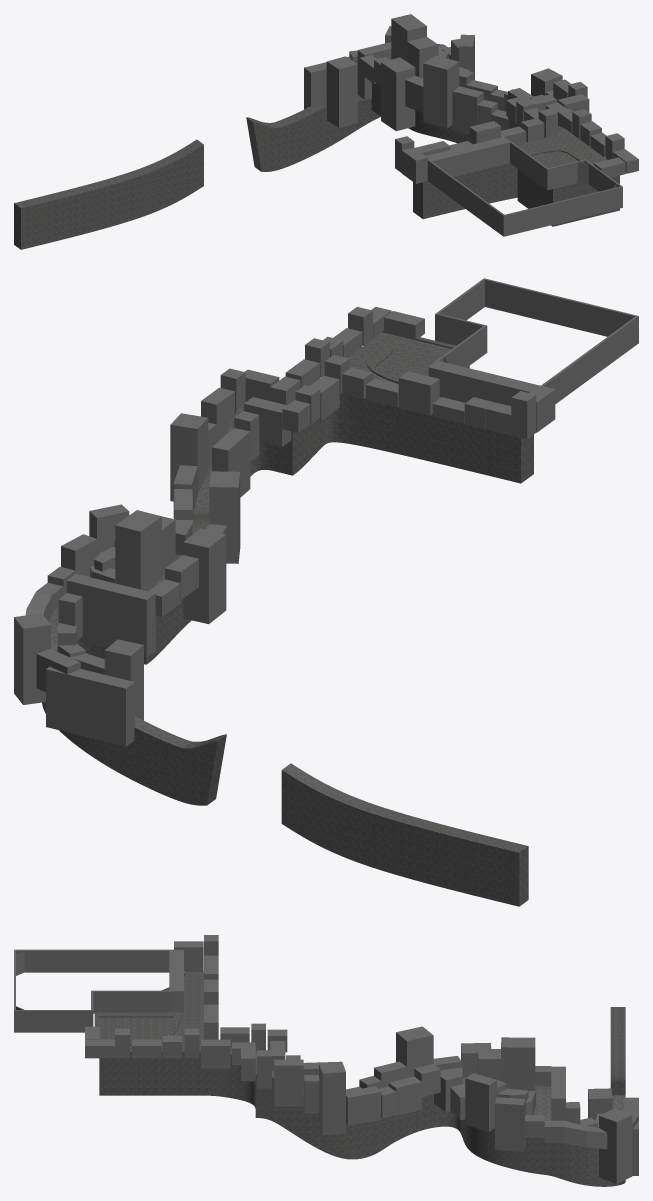
Rendered from street.gltf.
3 views of the same model, one above another, from view 1: azimuth 30°, elevation 25°; view 2: azimuth 150°, elevation 25°; view 3: azimuth 270°, elevation 25° (orthographic). The views are drawn at different scales.
Parts seen in each view (by area): view 1: Plane, Cube, Cube.028, Cube.052, Cube.032, Cube.027, Cube.038, Cube.053, Cube.033, Cube.061, Cube.044, Cube.031 (+15 smaller); view 2: Plane, Cube, Cube.053, Cube.044, Cube.038, Cube.032, Cube.051, Cube.021, Cube.028, Cube.052, Cube.008, Cube.056 (+9 smaller); view 3: Plane, Cube, Cube.051, Cube.021, Cube.038, Cube.036, Cube.037, Cube.028, Cube.019, Cube.046, Cube.022, Cube.026 (+24 smaller).
Part boxes in pixels (box(x1,y1,x2,y2)): Plane: box(14, 83, 619, 249); Cube: box(426, 137, 622, 236); Cube.028: box(423, 55, 459, 128); Cube.052: box(326, 56, 357, 127); Cube.032: box(381, 57, 415, 131); Cube.027: box(452, 86, 483, 134); Cube.038: box(391, 14, 426, 61); Cube.053: box(304, 56, 350, 109); Cube.033: box(407, 37, 438, 78); Cube.061: box(402, 147, 427, 183); Cube.044: box(357, 42, 391, 99); Cube.031: box(405, 75, 423, 113); Plane: box(42, 330, 533, 906); Cube: box(428, 278, 638, 405); Cube.053: box(46, 666, 135, 746); Cube.044: box(66, 574, 155, 657); Cube.038: box(115, 510, 161, 591); Cube.032: box(183, 528, 226, 623); Cube.051: box(14, 613, 50, 704); Cube.021: box(170, 413, 208, 501); Cube.028: box(209, 471, 240, 563); Cube.052: box(104, 639, 143, 720); Cube.008: box(212, 428, 250, 497); Cube.056: box(398, 371, 439, 415); Plane: box(94, 972, 625, 1186); Cube: box(14, 949, 183, 1032); Cube.051: box(599, 1108, 632, 1183); Cube.021: box(319, 1062, 345, 1135); Cube.038: box(501, 1037, 535, 1090); Cube.036: box(465, 1073, 497, 1131); Cube.037: box(495, 1097, 525, 1151); Cube.028: box(396, 1026, 433, 1077); Cube.019: box(274, 1059, 303, 1106); Cube.046: box(544, 1120, 607, 1149); Cube.022: box(346, 1086, 381, 1125); Cube.026: box(388, 1076, 421, 1115).
Bounding box in the file's own units: 465 × 221 × 591.
2 materials, 1 textured.
